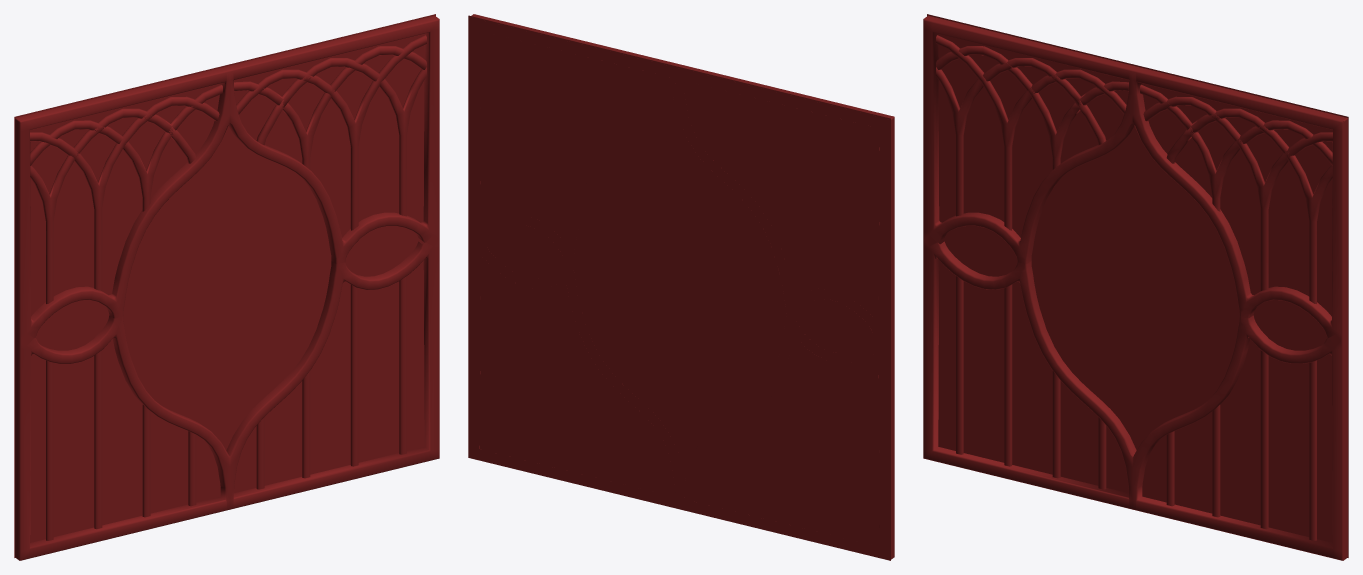
The model's file is SM_elfe_wall_low.fbx.
The picture shows the model from 3 angles, left to right: view 1: azimuth 30°, elevation 25°; view 2: azimuth 150°, elevation 25°; view 3: azimuth 330°, elevation 25°; orthographic projection.
Parts seen in each view (by area): view 1: SM_elfe_wall_low; view 2: SM_elfe_wall_low; view 3: SM_elfe_wall_low.
Part boxes in pixels (bbox=[...]): SM_elfe_wall_low: bbox=[14, 14, 439, 560]; SM_elfe_wall_low: bbox=[468, 14, 894, 560]; SM_elfe_wall_low: bbox=[923, 14, 1348, 560].
Bounding box in the file's own units: 39.37 × 39.37 × 0.8071.
